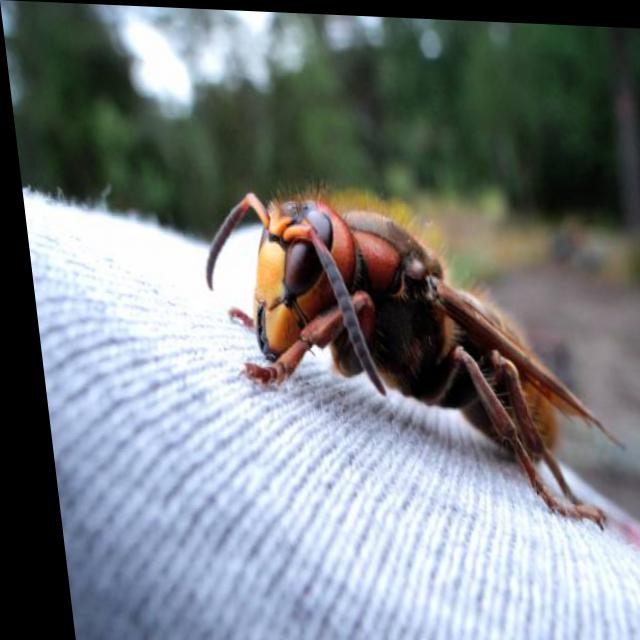Vespa Crabro: (181, 143, 637, 549)
